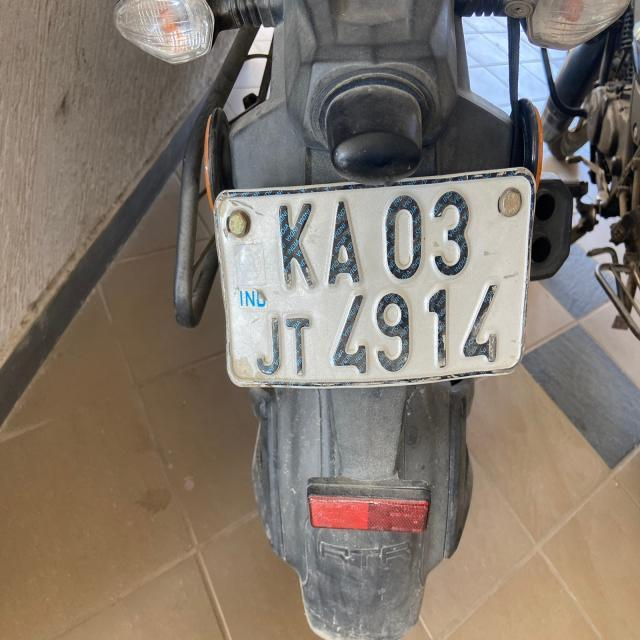0: (374, 186, 426, 278)
1: (420, 284, 456, 379)
3: (429, 183, 477, 282)
4: (326, 292, 376, 384), (458, 282, 500, 371)
9: (370, 284, 416, 379)
A: (327, 194, 365, 296)
J: (254, 311, 286, 382)
K: (270, 196, 321, 299)
T: (282, 308, 317, 380)
